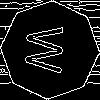W: (25, 25, 73, 75)
